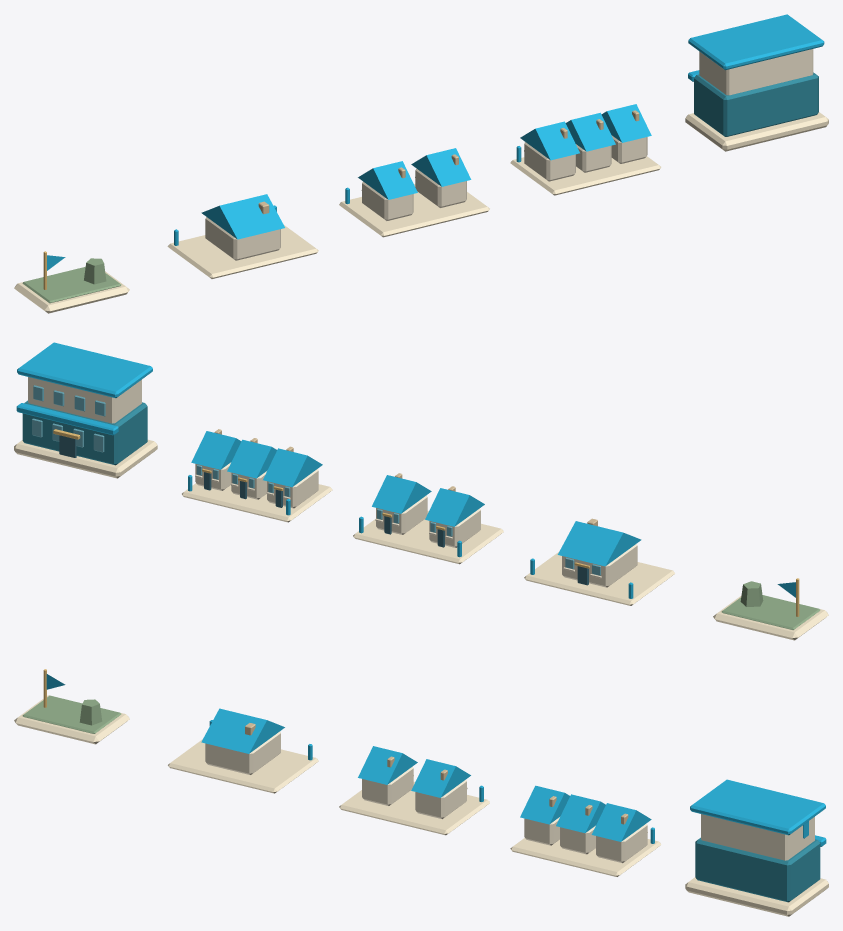
File: board-models.glb
The picture shows the model from 3 angles, top to bottom: view 1: azimuth 30°, elevation 25°; view 2: azimuth 150°, elevation 25°; view 3: azimuth 330°, elevation 25°; orthographic projection.
Visible parts, largest first — view 1: Hotel ground floor, OWNER_TINT hotel roof, Shared low limestone garden, Hotel second floor, Shared low limestone garden.001, Shared low limestone garden.002, OWNER_TINT gabled roof, Hotel limestone foundation, Owner garden plot, Ivory house walls, OWNER_TINT gabled roof.003, OWNER_TINT gabled roof.001 (+9 smaller); view 2: OWNER_TINT hotel roof, Hotel ground floor, Shared low limestone garden, Shared low limestone garden.001, Hotel second floor, OWNER_TINT gabled roof, Shared low limestone garden.002, Hotel limestone foundation, Owner garden plot, OWNER_TINT gabled roof.003, OWNER_TINT gabled roof.001, OWNER_TINT gabled roof.002 (+8 smaller); view 3: Hotel ground floor, OWNER_TINT hotel roof, Shared low limestone garden, Hotel second floor, Shared low limestone garden.001, Shared low limestone garden.002, OWNER_TINT gabled roof, Hotel limestone foundation, Owner garden plot, Ivory house walls, OWNER_TINT gabled roof.001, OWNER_TINT gabled roof.005 (+10 smaller).
Part boxes in pixels (left/top/right/bottom): Hotel ground floor: left=694, top=72, right=818, bottom=136; OWNER_TINT hotel roof: left=688, top=14, right=824, bottom=70; Shared low limestone garden: left=167, top=225, right=318, bottom=278; Hotel second floor: left=699, top=49, right=813, bottom=95; Shared low limestone garden.001: left=339, top=184, right=489, bottom=237; Shared low limestone garden.002: left=510, top=156, right=661, bottom=195; OWNER_TINT gabled roof: left=201, top=194, right=284, bottom=239; Hotel limestone foundation: left=685, top=112, right=828, bottom=151; Owner garden plot: left=22, top=267, right=121, bottom=303; Ivory house walls: left=205, top=217, right=280, bottom=260; OWNER_TINT gabled roof.003: left=520, top=121, right=579, bottom=160; OWNER_TINT gabled roof.001: left=358, top=161, right=417, bottom=199; OWNER_TINT hotel roof: left=17, top=342, right=152, bottom=398; Hotel ground floor: left=22, top=400, right=147, bottom=465; Shared low limestone garden: left=524, top=552, right=674, bottom=605; Shared low limestone garden.001: left=353, top=511, right=503, bottom=564; Hotel second floor: left=28, top=377, right=141, bottom=423; OWNER_TINT gabled roof: left=557, top=521, right=641, bottom=566; Shared low limestone garden.002: left=182, top=483, right=332, bottom=522; Hotel limestone foundation: left=14, top=439, right=157, bottom=478; Owner garden plot: left=721, top=595, right=820, bottom=629; OWNER_TINT gabled roof.003: left=263, top=448, right=322, bottom=487; OWNER_TINT gabled roof.001: left=425, top=488, right=484, bottom=526; OWNER_TINT gabled roof.002: left=372, top=475, right=431, bottom=513; Hotel ground floor: left=695, top=837, right=820, bottom=902; OWNER_TINT hotel roof: left=690, top=779, right=825, bottom=835; Shared low limestone garden: left=168, top=739, right=318, bottom=793; Hotel second floor: left=701, top=814, right=814, bottom=860; Shared low limestone garden.001: left=339, top=782, right=489, bottom=835; Shared low limestone garden.002: left=510, top=838, right=661, bottom=876; OWNER_TINT gabled roof: left=201, top=708, right=284, bottom=753; Hotel limestone foundation: left=685, top=877, right=828, bottom=916; Owner garden plot: left=22, top=695, right=121, bottom=733; Ivory house walls: left=205, top=731, right=280, bottom=774; OWNER_TINT gabled roof.001: left=358, top=746, right=417, bottom=784; OWNER_TINT gabled roof.005: left=591, top=803, right=651, bottom=841.
Bounding box in the file's own units: 5.57 × 0.5875 × 0.55.
